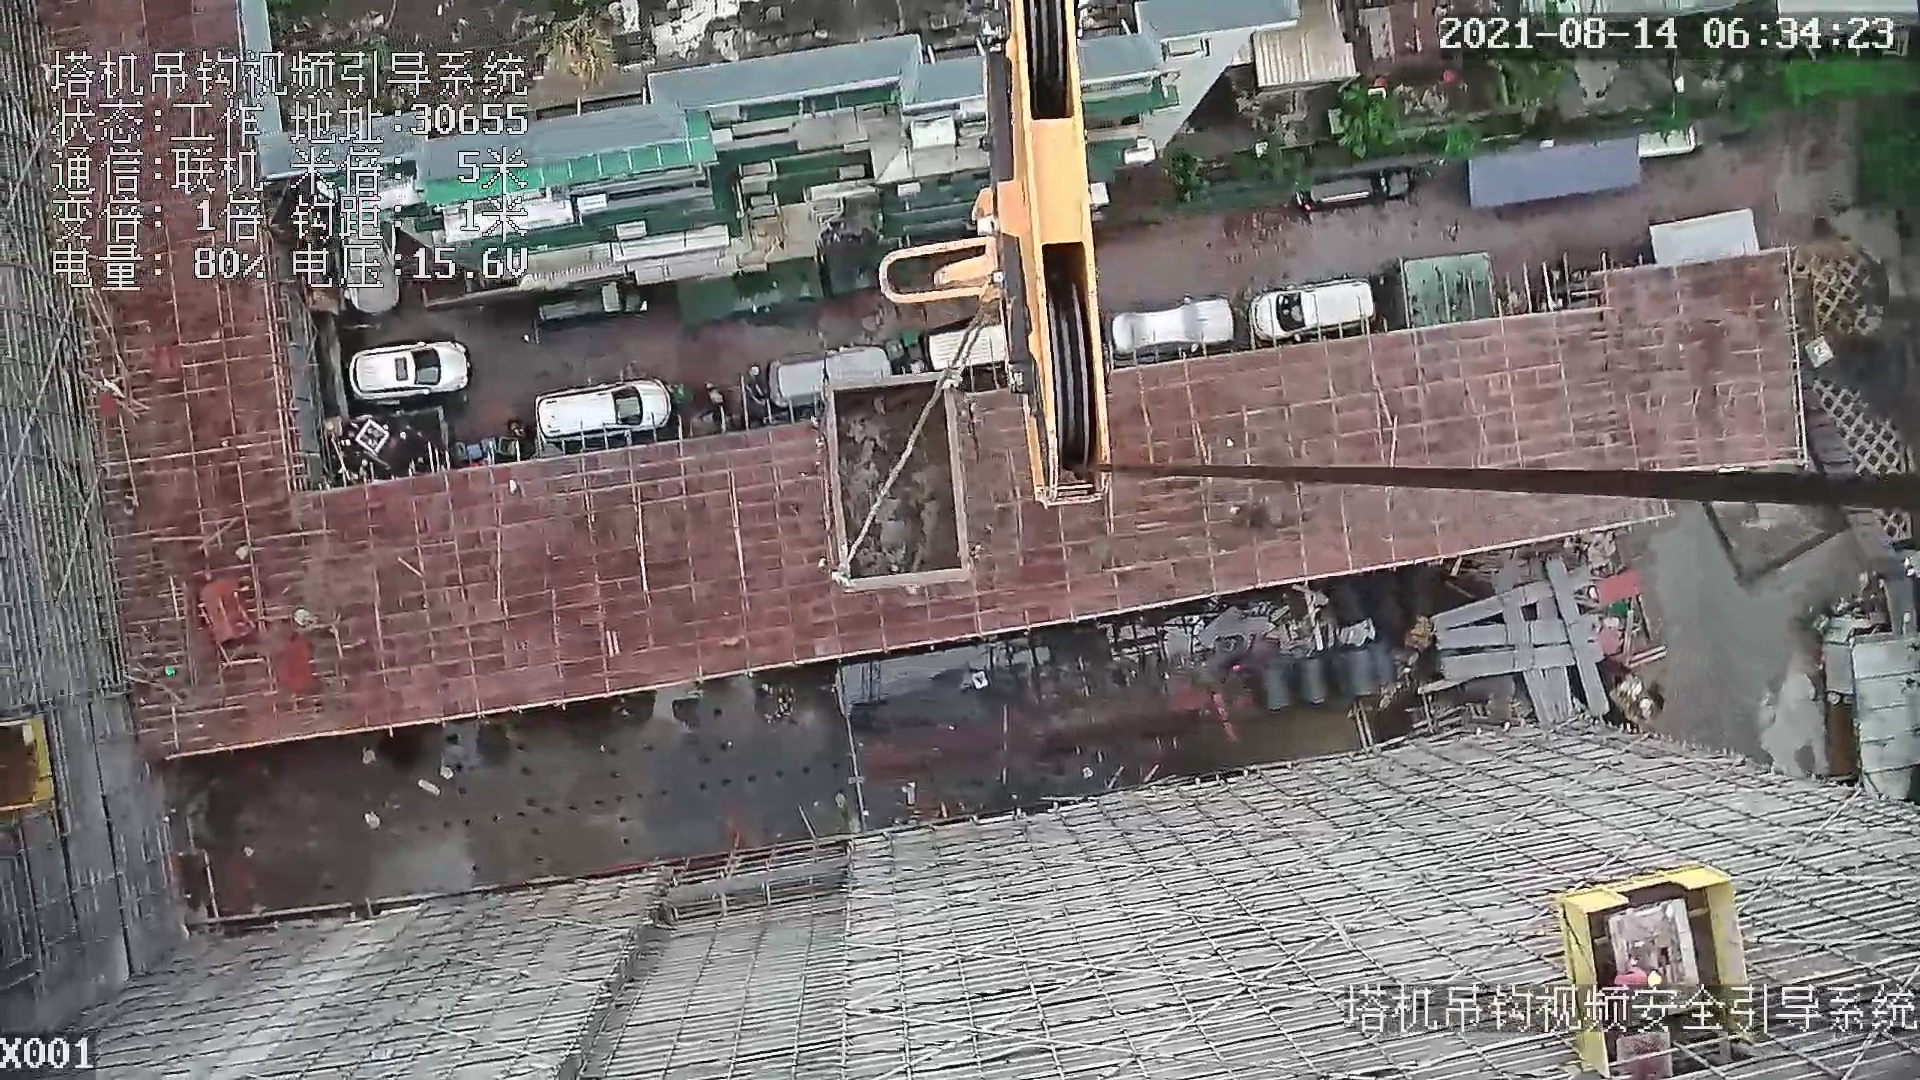helmet: (1649, 970, 1663, 989)
hook: (872, 1, 1112, 513)
hopper: (808, 369, 985, 614)
person: (1618, 958, 1664, 994)
